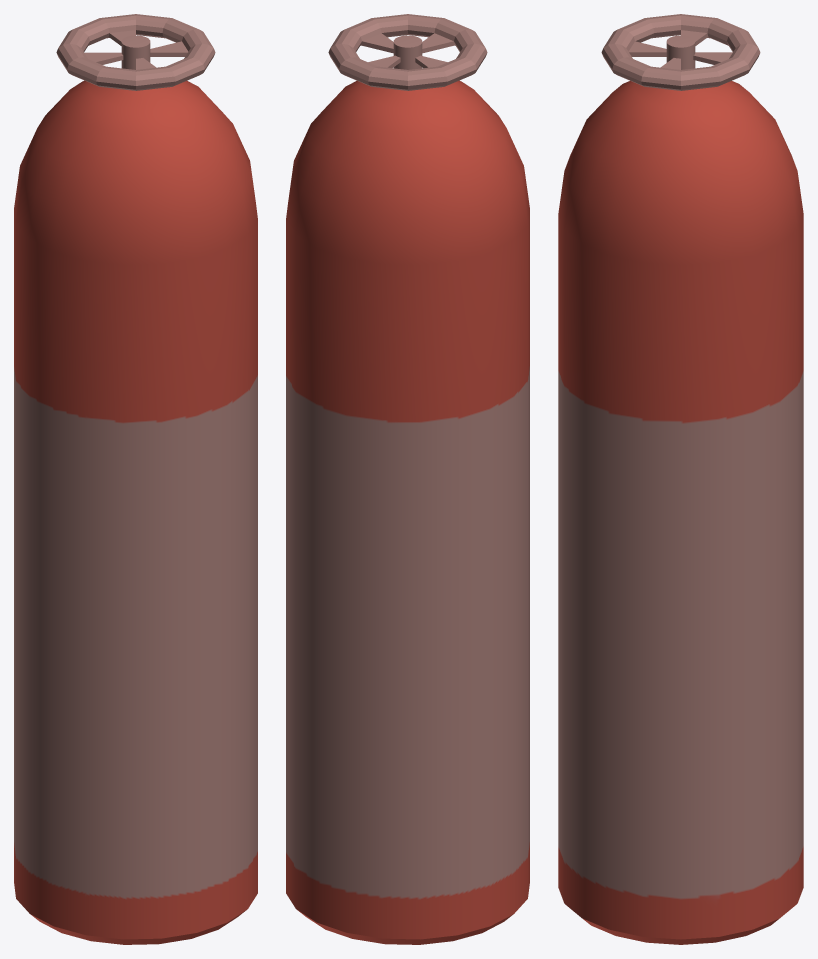
The model's file is gas.fbx.
3 views of the same model, side by side, from view 1: azimuth 30°, elevation 25°; view 2: azimuth 150°, elevation 25°; view 3: azimuth 270°, elevation 25° (orthographic).
Parts seen in each view (by area): view 1: polySurface510.001; view 2: polySurface510.001; view 3: polySurface510.001.
Boxes of the visible parts, x1,y1,x2,y2 form: polySurface510.001: (14, 14, 257, 944); polySurface510.001: (286, 14, 529, 944); polySurface510.001: (558, 14, 803, 944).
Bounding box in the file's own units: 31.22 × 120 × 31.22.
